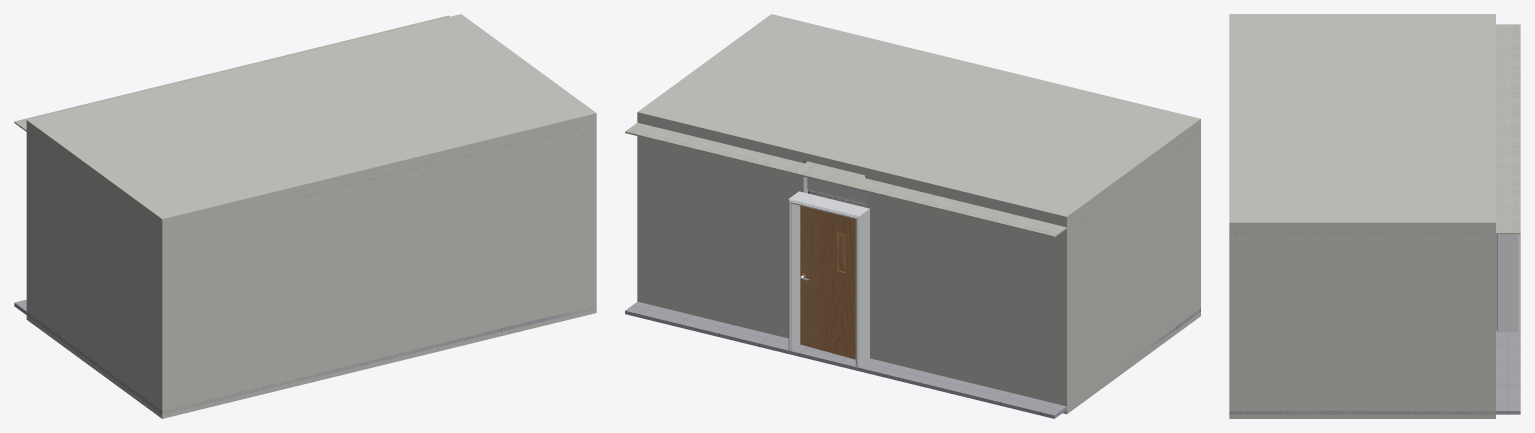
File: infinigen-stepdown.glb
3 views of the same model, side by side, from view 1: azimuth 30°, elevation 25°; view 2: azimuth 150°, elevation 25°; view 3: azimuth 270°, elevation 25° (orthographic).
Parts seen in each view (by area): view 1: bedroom_0/0.exterior, openclinxr_floor_field, openclinxr_ceiling_tiles; view 2: bedroom_0/0.exterior, bedroom_0/0.door_leaf, openclinxr_floor_field, openclinxr_ceiling_tiles, bedroom_0/0.door_casing, openclinxr_door_transom_infill; view 3: bedroom_0/0.exterior, openclinxr_ceiling_tiles, openclinxr_floor_field, bedroom_0/0.door_casing.
Boxes of the visible parts, x1,y1,x2,y2 form: bedroom_0/0.exterior: [26, 14, 596, 418]; openclinxr_floor_field: [14, 299, 596, 413]; openclinxr_ceiling_tiles: [14, 15, 595, 231]; bedroom_0/0.exterior: [637, 14, 1200, 414]; bedroom_0/0.door_leaf: [800, 206, 855, 359]; openclinxr_floor_field: [625, 301, 1200, 418]; openclinxr_ceiling_tiles: [625, 122, 1200, 237]; bedroom_0/0.door_casing: [788, 191, 869, 366]; openclinxr_door_transom_infill: [807, 177, 867, 203]; bedroom_0/0.exterior: [1229, 14, 1495, 418]; openclinxr_ceiling_tiles: [1229, 24, 1520, 234]; openclinxr_floor_field: [1229, 330, 1520, 414]; bedroom_0/0.door_casing: [1496, 234, 1520, 332].
Bounding box in the file's own units: 6.42 × 2.82 × 3.79.
20 materials, 10 textured.
